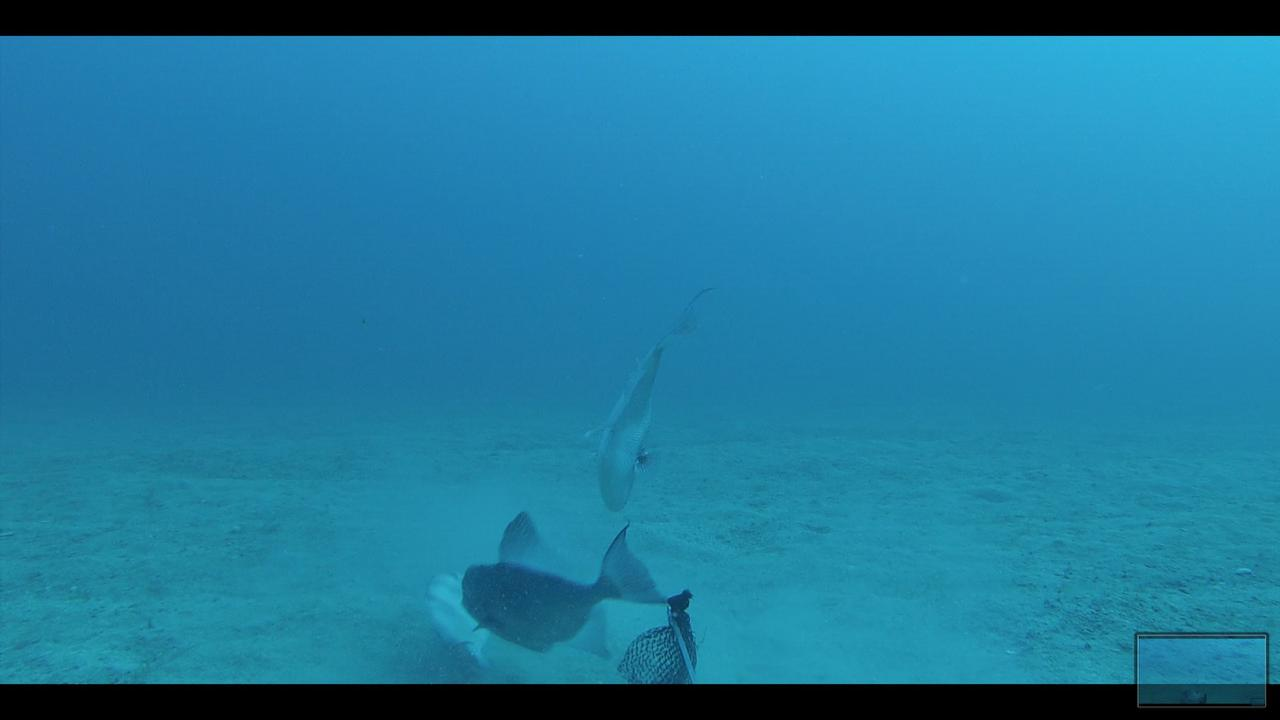balistes: (453, 498, 675, 662), (576, 279, 710, 513), (412, 564, 500, 672)
